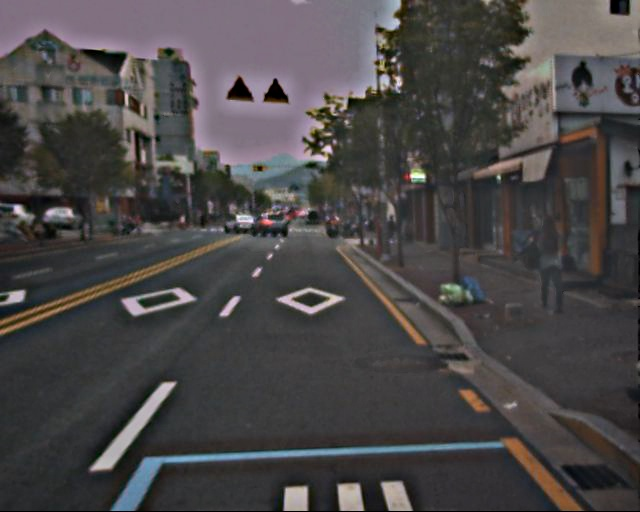person: (524, 216, 572, 320)
